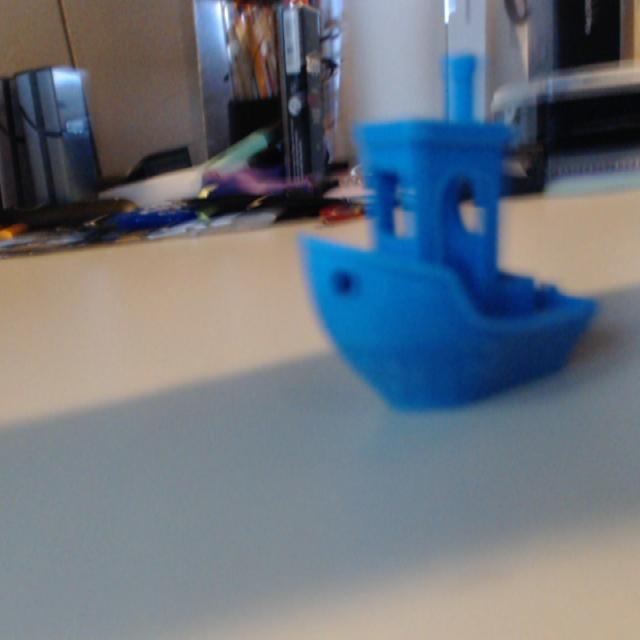benchy: (294, 109, 599, 416)
